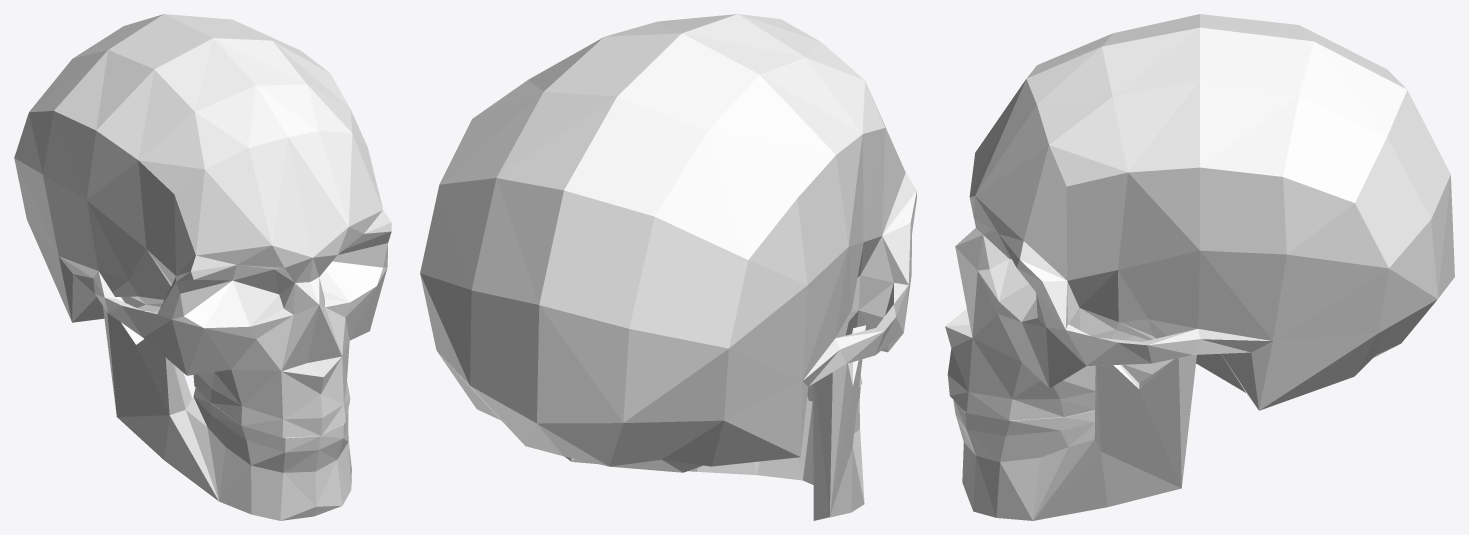
The model's file is skull.obj.
The picture shows the model from 3 angles, left to right: view 1: azimuth 30°, elevation 25°; view 2: azimuth 150°, elevation 25°; view 3: azimuth 270°, elevation 25°; orthographic projection. The views are drawn at different scales.
Parts seen in each view (by area): view 1: Cube.001; view 2: Cube.001; view 3: Cube.001.
Boxes of the visible parts, x1,y1,x2,y2 form: Cube.001: (14,14,391,520); Cube.001: (420,14,916,520); Cube.001: (945,14,1454,520).
Bounding box in the file's own units: 1.36 × 1.99 × 1.95.
